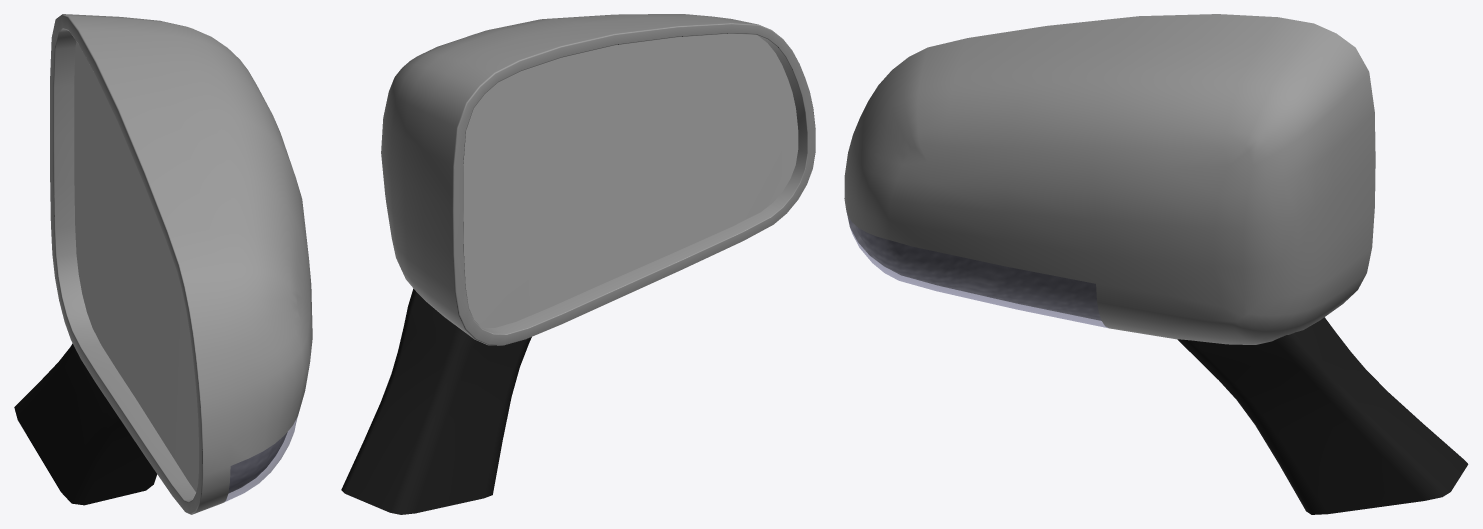
3 views of the same model, side by side, from view 1: azimuth 30°, elevation 25°; view 2: azimuth 150°, elevation 25°; view 3: azimuth 270°, elevation 25° (orthographic). The views are drawn at different scales.
Parts seen in each view (by area): view 1: Y192_281I_R_Y192_281I_R_3_DaS, Y192_281I_R_Y192_281I_R_5_DTaSI, Y192_281I_R_Y192_281I_R_2_D, Y192_281I_R_Y192_281I_R_4_DTaSI, Y192_281I_R_1_N_Y192_281I_R; view 2: Y192_281I_R_Y192_281I_R_5_DTaSI, Y192_281I_R_Y192_281I_R_3_DaS, Y192_281I_R_Y192_281I_R_2_D; view 3: Y192_281I_R_Y192_281I_R_3_DaS, Y192_281I_R_Y192_281I_R_2_D, Y192_281I_R_Y192_281I_R_4_DTaSI, Y192_281I_R_1_N_Y192_281I_R.
Part boxes in pixels (<box>): Y192_281I_R_Y192_281I_R_3_DaS: <box>50,14,312,514</box>; Y192_281I_R_Y192_281I_R_5_DTaSI: <box>74,41,198,492</box>; Y192_281I_R_Y192_281I_R_2_D: <box>14,343,157,505</box>; Y192_281I_R_Y192_281I_R_4_DTaSI: <box>224,417,297,502</box>; Y192_281I_R_1_N_Y192_281I_R: <box>228,432,287,493</box>; Y192_281I_R_Y192_281I_R_5_DTaSI: <box>463,33,798,327</box>; Y192_281I_R_Y192_281I_R_3_DaS: <box>381,14,815,345</box>; Y192_281I_R_Y192_281I_R_2_D: <box>341,288,531,514</box>; Y192_281I_R_Y192_281I_R_3_DaS: <box>844,14,1375,344</box>; Y192_281I_R_Y192_281I_R_2_D: <box>1177,317,1468,514</box>; Y192_281I_R_Y192_281I_R_4_DTaSI: <box>847,213,1107,327</box>; Y192_281I_R_1_N_Y192_281I_R: <box>846,211,1101,320</box>.
Bounding box in the file's own units: 17.89 × 30.54 × 37.79.
